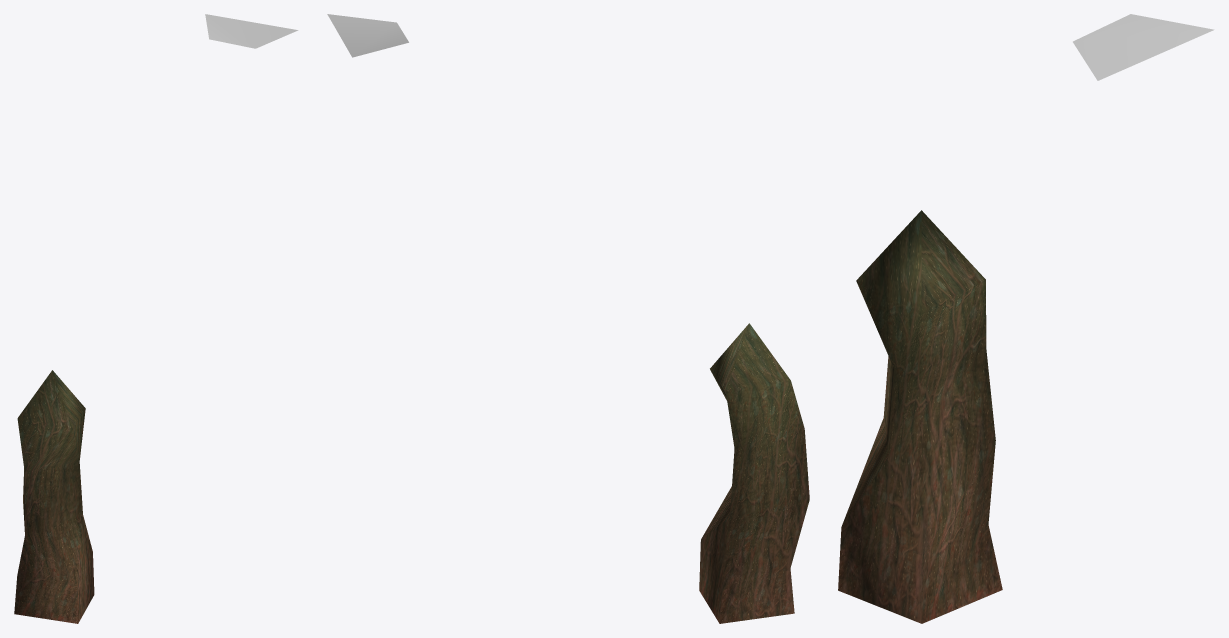
File: phys_Plant2_2.fbx
3 views of the same model, side by side, from view 1: azimuth 30°, elevation 25°; view 2: azimuth 150°, elevation 25°; view 3: azimuth 270°, elevation 25° (orthographic). The views are drawn at different scales.
Parts seen in each view (by area): view 1: polySurface43; view 2: polySurface43; view 3: polySurface43.
Part boxes in pixels (left/top/right/bottom): polySurface43: left=14, top=14, right=298, bottom=623; polySurface43: left=327, top=14, right=809, bottom=623; polySurface43: left=838, top=14, right=1214, bottom=623.
Size of the model in its own units: 188 by 245 by 111.
